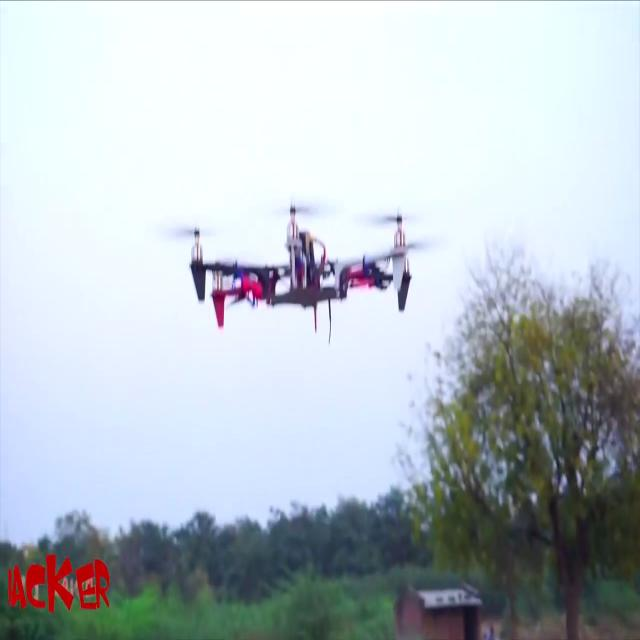drone: (164, 182, 445, 351)
